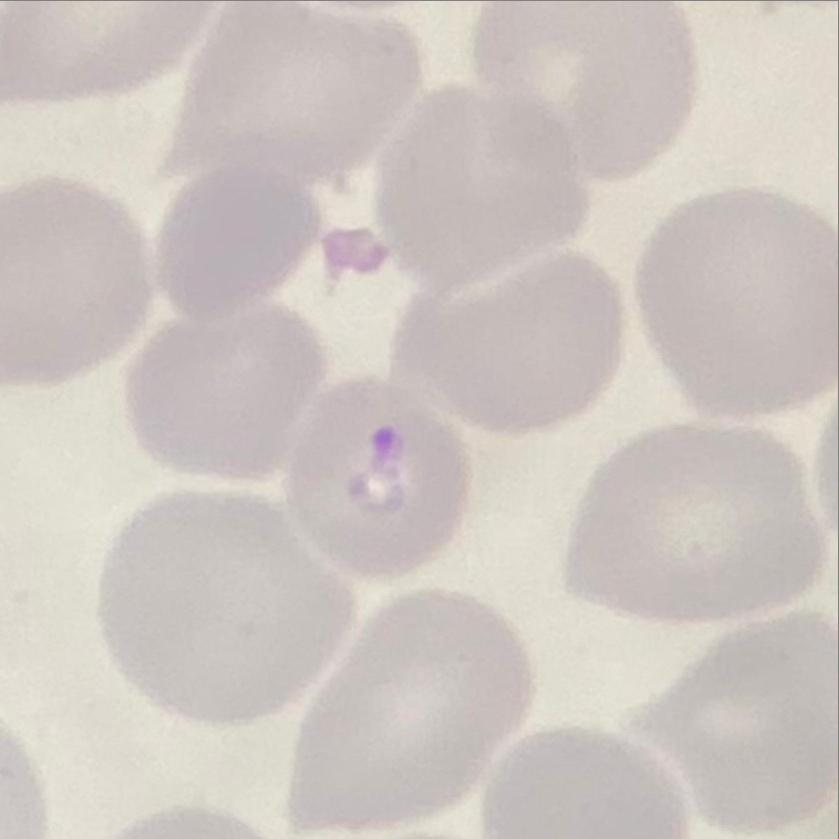Infected: (287, 375, 473, 573)
Uninfected: (100, 489, 351, 729), (293, 595, 535, 831), (563, 417, 821, 619), (637, 189, 839, 421), (372, 75, 591, 284), (177, 0, 419, 187), (385, 250, 627, 435), (627, 619, 839, 824), (472, 0, 693, 178), (128, 300, 325, 481), (0, 177, 151, 379), (158, 160, 325, 312)
